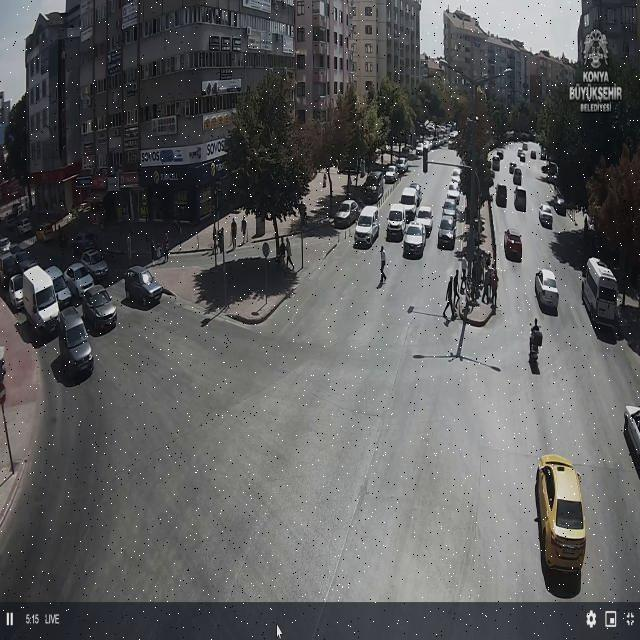Bus: (582, 256, 619, 328)
Car: (535, 456, 587, 574), (123, 267, 164, 305), (83, 284, 118, 328), (622, 405, 640, 476), (533, 269, 560, 312), (63, 263, 93, 294), (402, 222, 426, 257), (81, 249, 109, 277), (334, 199, 359, 227), (503, 228, 523, 262), (437, 214, 456, 249), (0, 255, 20, 288), (414, 206, 433, 237), (8, 274, 22, 311), (538, 204, 554, 228), (408, 182, 424, 205), (36, 223, 56, 241), (440, 199, 458, 218), (445, 182, 462, 201), (494, 184, 508, 207), (384, 166, 399, 184), (16, 220, 34, 233), (396, 157, 408, 173), (0, 238, 12, 253)
Cycle: (528, 330, 544, 362)
Van: (23, 265, 60, 336), (58, 306, 94, 374), (353, 204, 380, 247), (41, 267, 71, 302), (362, 171, 384, 202), (388, 206, 407, 239), (399, 186, 418, 218), (512, 185, 528, 214)
